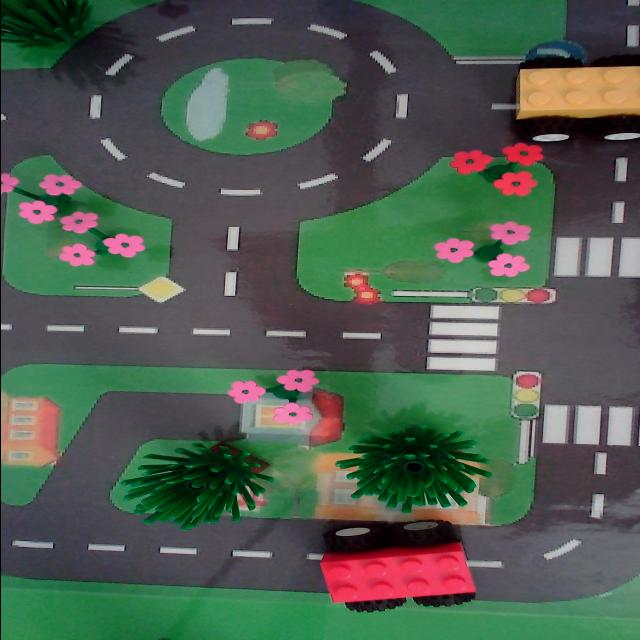Car: (302, 510, 499, 631), (493, 43, 640, 163)
Flower: (406, 208, 550, 296), (428, 135, 576, 209), (48, 210, 168, 270), (0, 156, 92, 230)
Tree: (320, 410, 512, 515), (115, 429, 277, 534), (0, 0, 124, 65)
